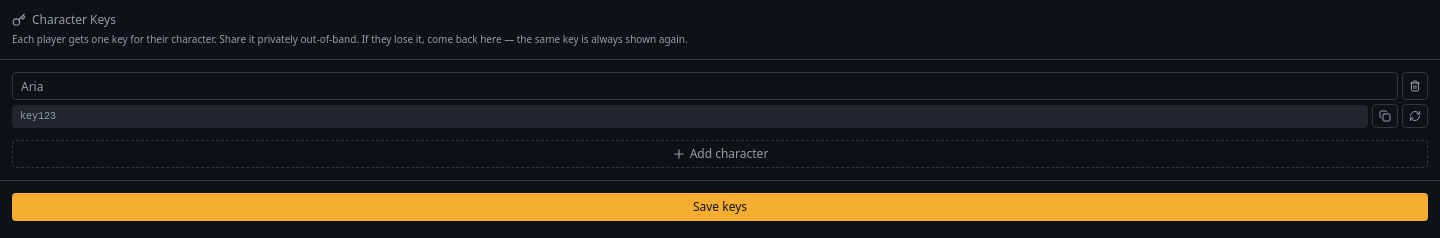
Scenario: CharacterKeysPanel — load/add/remove/persist contract (N36) › Save button is disabled while save is in flight
The image size is (1440, 238).
Expected: the field showing "Aria" is shown, [12,72,1398,100]
Click the button "Save keys": (720, 207) [12,193,1428,221]
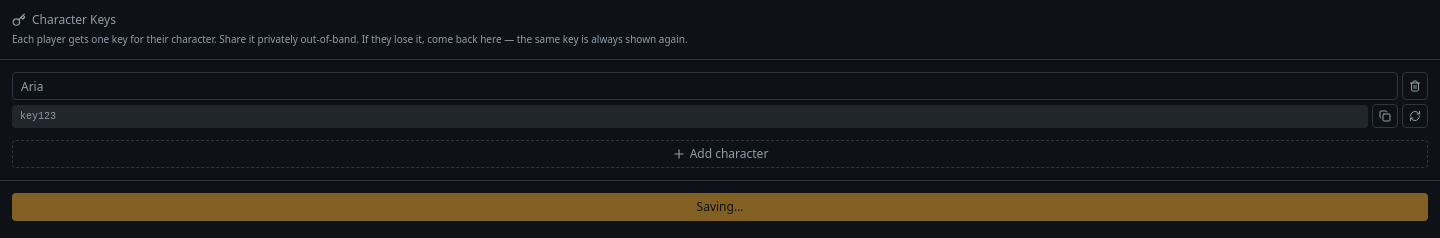
Expected: the button "Saving…" is disabled, [12,193,1428,221]
